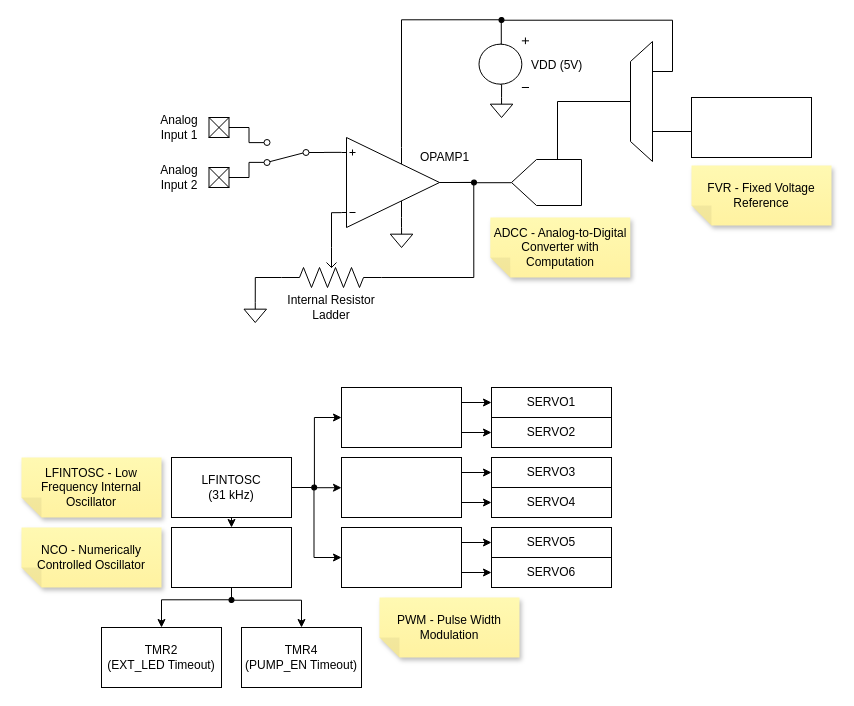
Some shapes in this 854 by 706 pixel diagram are drawn without their labels. Here are the shapes that lost their labels. From the top down, the centre of each, then its label:
point (751, 127): FVR1 (1.024V, 2.048V, 4.096V)
point (546, 182): ADCC
point (401, 417): PWM1 (Default 50 Hz)
point (401, 487): PWM2 (Default 50 Hz)
point (231, 557): NCO1 (1 Hz)
point (401, 557): PWM3 (Default 50 Hz)
